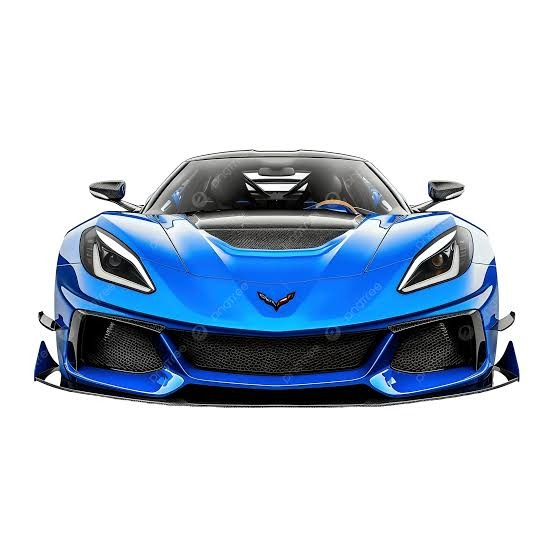car: (41, 161, 522, 393), (38, 169, 528, 395)
